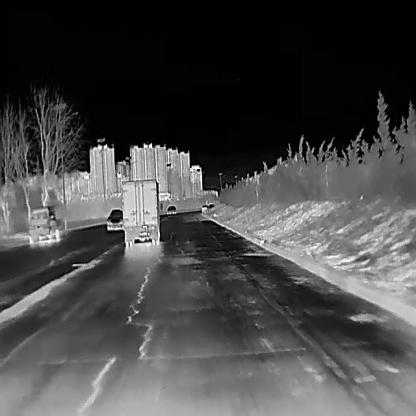car: (106, 208, 123, 229), (166, 205, 177, 213), (200, 203, 208, 211)
truck: (120, 178, 162, 248), (28, 204, 66, 244)
